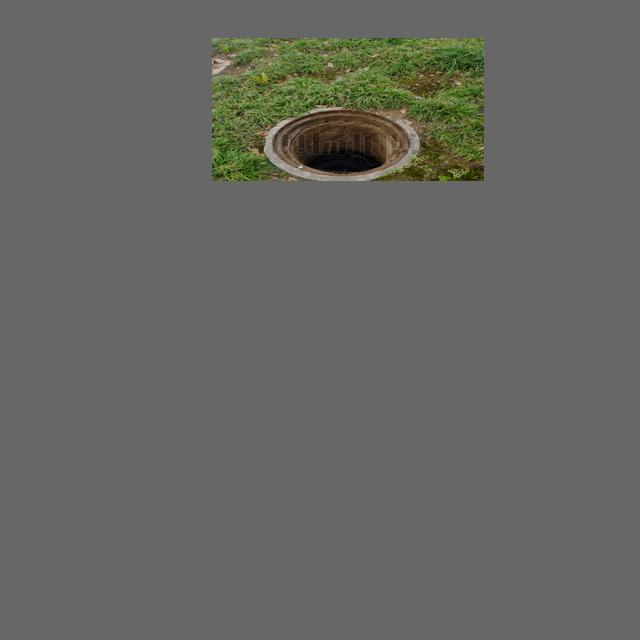lose: (261, 104, 420, 178)
